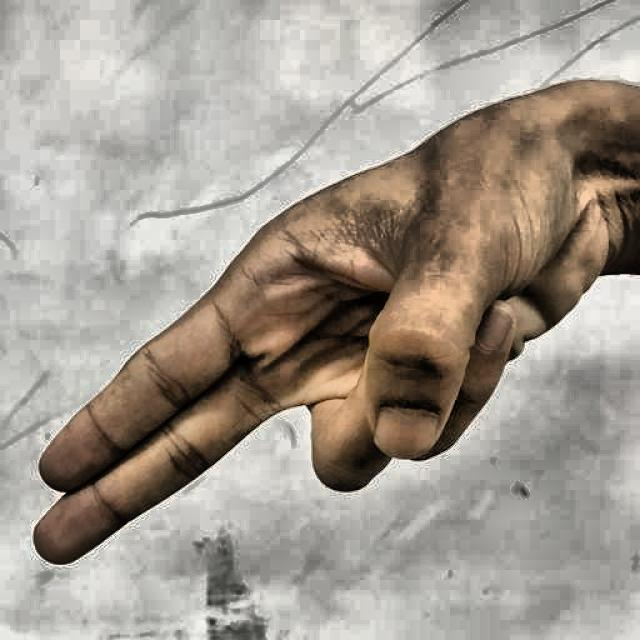Ha: (20, 71, 610, 625)
